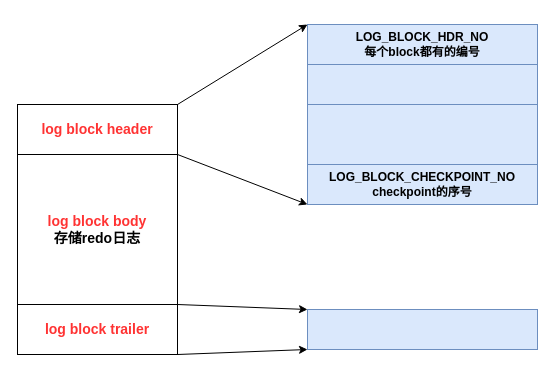
Image size: 555x380. Some labels were removed from this diagram. The shapes that lost their labels are listed below. From the top down, each one's centre as x and y in pixels, then its label:
At pixel 422 84: "LOG_BLOCK_HDR_DATA_LEN 该block中使用了多少字节".
At pixel 422 134: "LOG_BLOCK_FIRST_REC_GROUP 该block中第一个MTR生成的redo日志的起始偏移量".
At pixel 422 329: "LOG_BLOCK_CHECHSUM 校验值,用于正确性校验".
